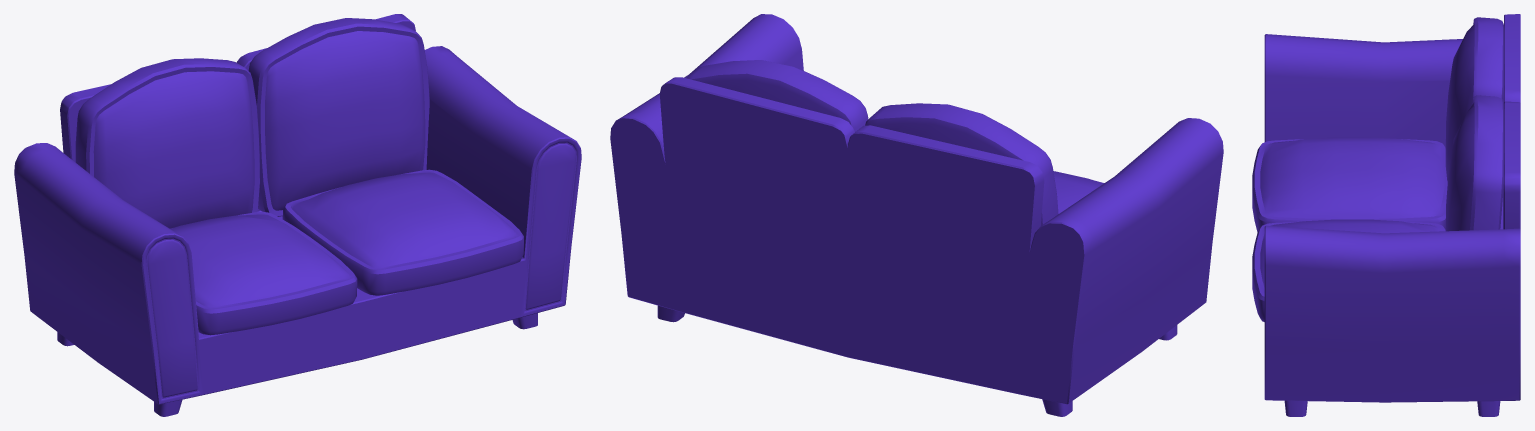
Rendered from Sofa.fbx.
The picture shows the model from 3 angles, left to right: view 1: azimuth 30°, elevation 25°; view 2: azimuth 150°, elevation 25°; view 3: azimuth 270°, elevation 25°; orthographic projection. The views are drawn at different scales.
Parts seen in each view (by area): view 1: SM_Sofa, SM_BackCushions.001, SM_BackCushions, SM_SofaCushions.001, SM_SofaCushions, SM_SofaLegs.002; view 2: SM_Sofa, SM_BackCushions, SM_BackCushions.001, SM_SofaCushions, SM_SofaLegs.002; view 3: SM_Sofa, SM_SofaCushions, SM_BackCushions.001, SM_BackCushions, SM_SofaCushions.001, SM_SofaLegs.002.
Boxes of the visible parts, x1,y1,x2,y2 form: SM_Sofa: [14, 14, 581, 404]; SM_BackCushions.001: [248, 18, 429, 216]; SM_BackCushions: [75, 58, 259, 228]; SM_SofaCushions.001: [282, 169, 523, 295]; SM_SofaCushions: [170, 211, 357, 335]; SM_SofaLegs.002: [57, 313, 537, 416]; SM_Sofa: [610, 14, 1223, 404]; SM_BackCushions: [865, 103, 1058, 225]; SM_BackCushions.001: [686, 60, 868, 131]; SM_SofaCushions: [1053, 171, 1104, 213]; SM_SofaLegs.002: [657, 305, 1177, 416]; SM_Sofa: [1264, 14, 1520, 402]; SM_SofaCushions: [1252, 137, 1447, 232]; SM_BackCushions.001: [1445, 95, 1504, 231]; SM_BackCushions: [1445, 17, 1504, 181]; SM_SofaCushions.001: [1252, 219, 1445, 321]; SM_SofaLegs.002: [1284, 400, 1500, 416].
Bounding box in the file's own units: 405 × 223 × 215.
